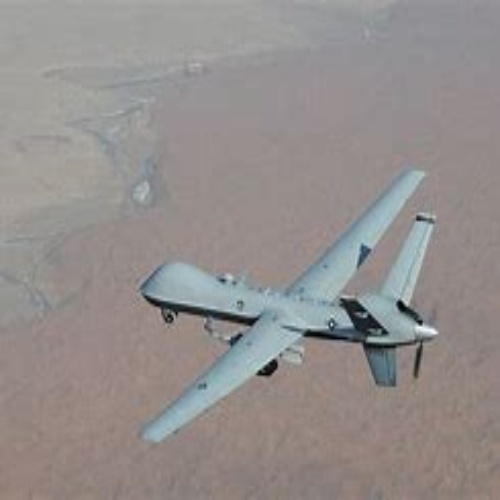uav468: (135, 169, 444, 442)
